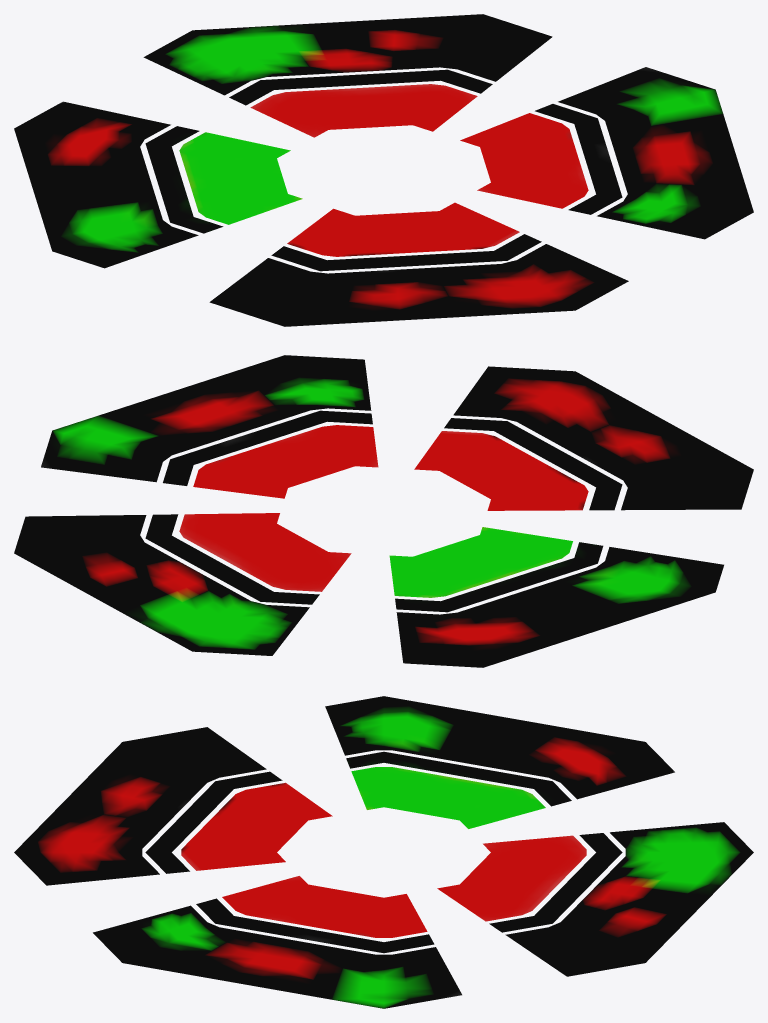
File: GrassMaskVertexP.fbx
The picture shows the model from 3 angles, top to bottom: view 1: azimuth 30°, elevation 25°; view 2: azimuth 150°, elevation 25°; view 3: azimuth 270°, elevation 25°; orthographic projection. The views are drawn at different scales.
Parts seen in each view (by area): view 1: GrassMask; view 2: GrassMask; view 3: GrassMask.
Part boxes in pixels (box(x1,y1,x2,y2)): GrassMask: box(14, 14, 753, 326); GrassMask: box(14, 355, 753, 667); GrassMask: box(14, 696, 753, 1008).
Bounding box in the file's own units: 1625 × 0 × 1625.
